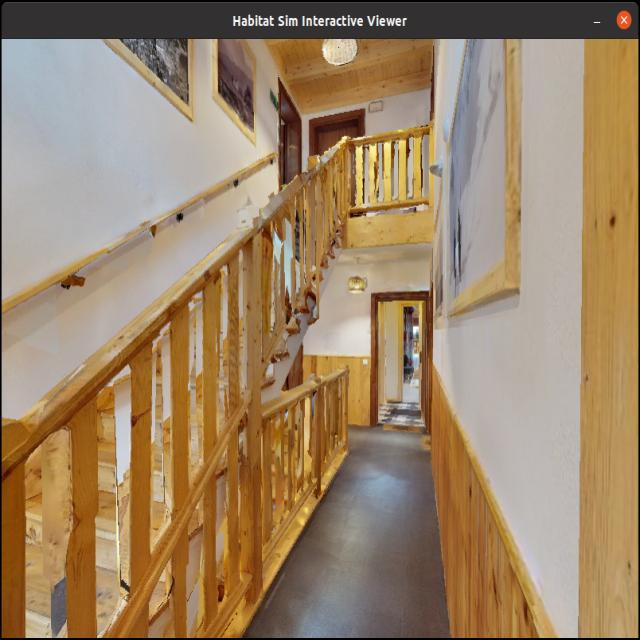door-frame: (368, 294, 438, 424)
stairs: (0, 134, 345, 640)
